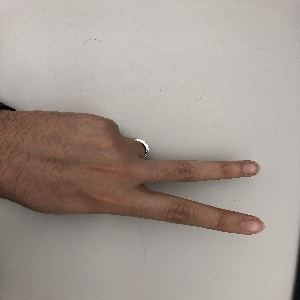hand: (20, 113, 263, 236)
